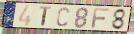4: (18, 4, 33, 27)
8: (111, 8, 127, 31), (74, 7, 90, 29)
C: (56, 7, 71, 28)
F: (90, 8, 110, 29)
T: (39, 6, 52, 27)
